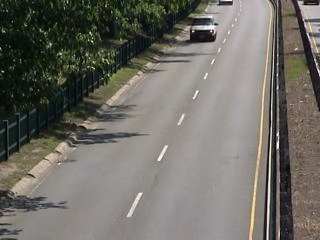truck: (189, 14, 220, 44)
